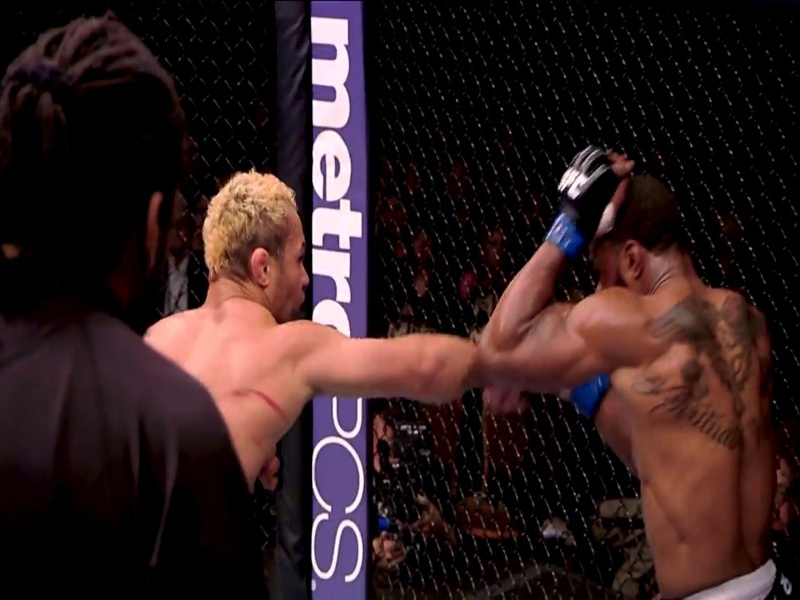fighter: (482, 141, 798, 596), (134, 168, 482, 481)
